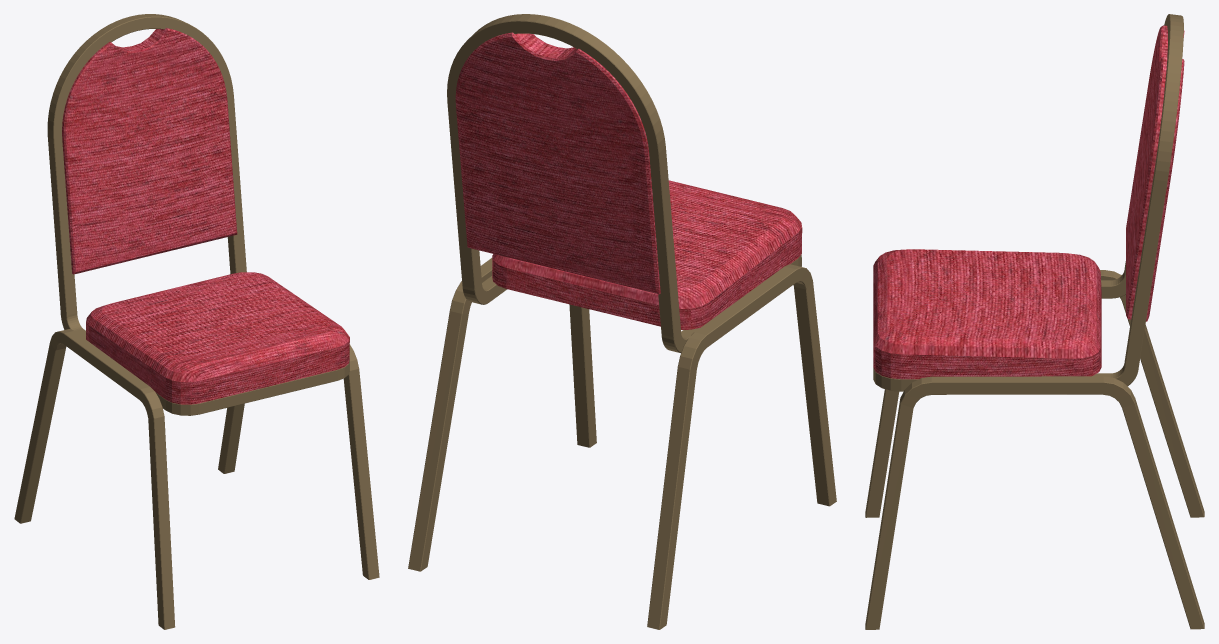
The model's file is chair2.obj.
The picture shows the model from 3 angles, left to right: view 1: azimuth 30°, elevation 25°; view 2: azimuth 150°, elevation 25°; view 3: azimuth 270°, elevation 25°; orthographic projection. The views are drawn at different scales.
Visible parts, largest first — view 1: chaise, structure; view 2: chaise, structure; view 3: chaise, structure.
Part boxes in pixels (box(x1,y1,x2,y2)): chaise: box(62, 28, 349, 404); structure: box(14, 14, 379, 629); chaise: box(455, 32, 802, 329); structure: box(408, 14, 836, 629); chaise: box(873, 25, 1184, 379); structure: box(865, 14, 1204, 629).
Size of the model in its own units: 40.27 by 86.77 by 48.87.
